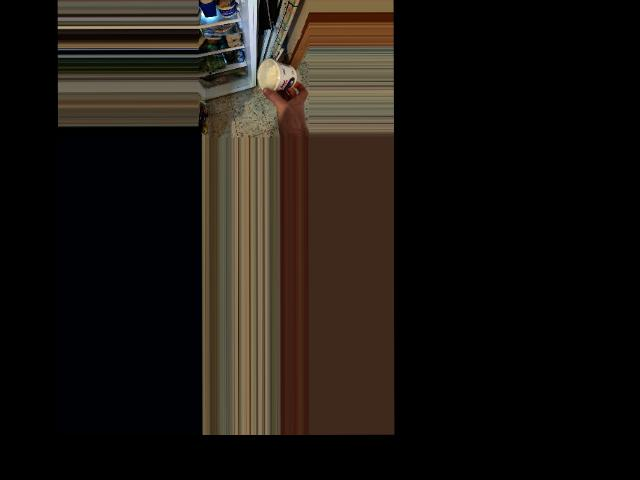cotage: (258, 59, 299, 95)
